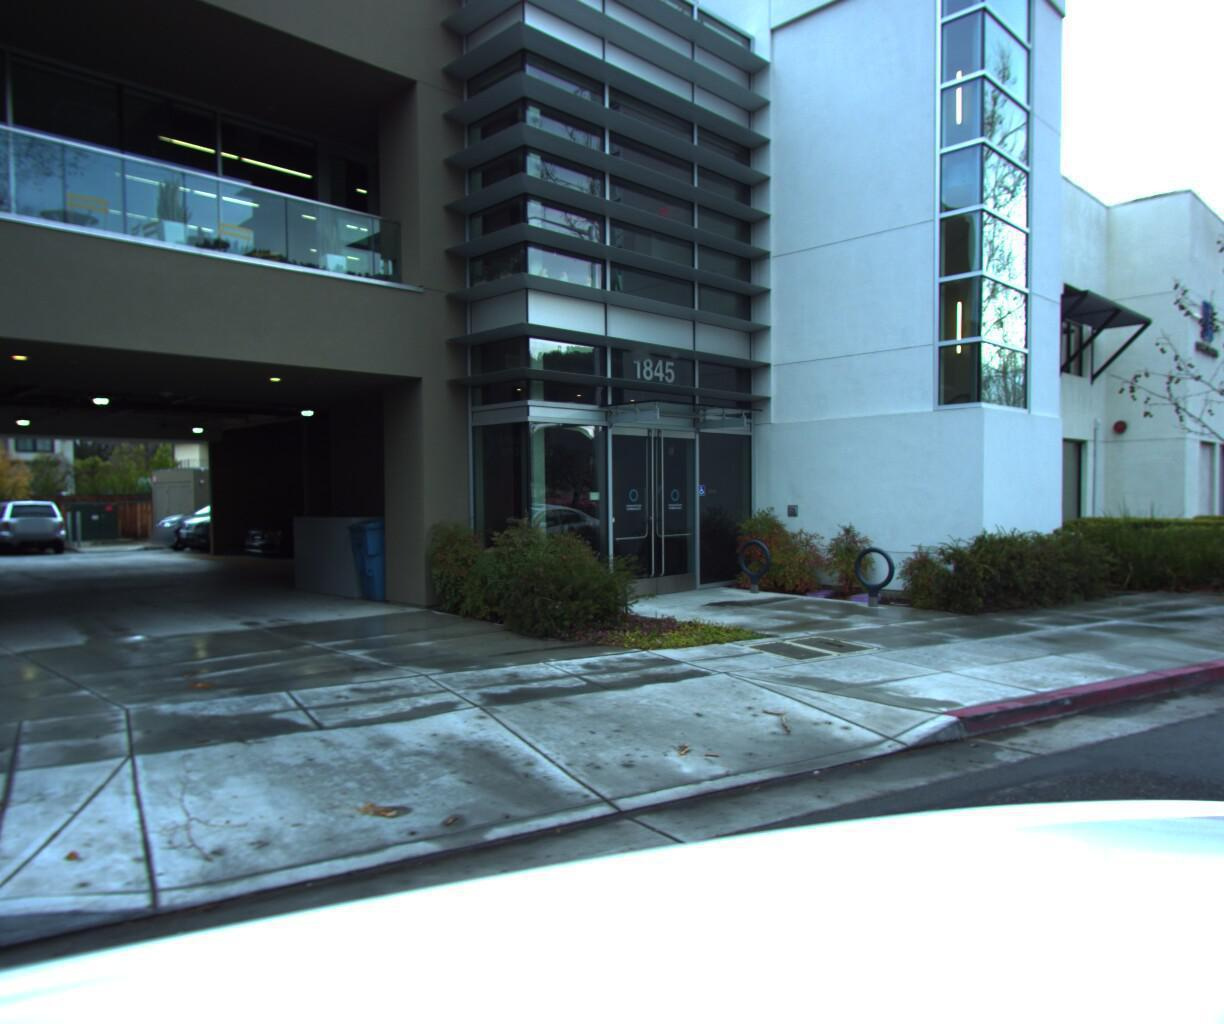car: (231, 496, 409, 557)
